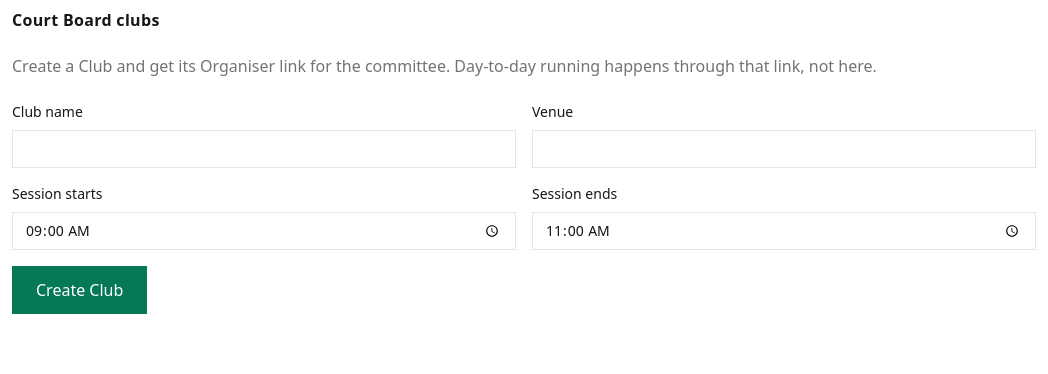
Scenario: CourtBoardClubsPanel › shows the unavailable failure and no link
This screenshot has width=1048, height=374.
Type "Lunchtime Badminton" into the field labelled "Club name".
click(264, 149); type("Lunchtime Badminton")  # box x1=12 y1=130 x2=516 y2=168
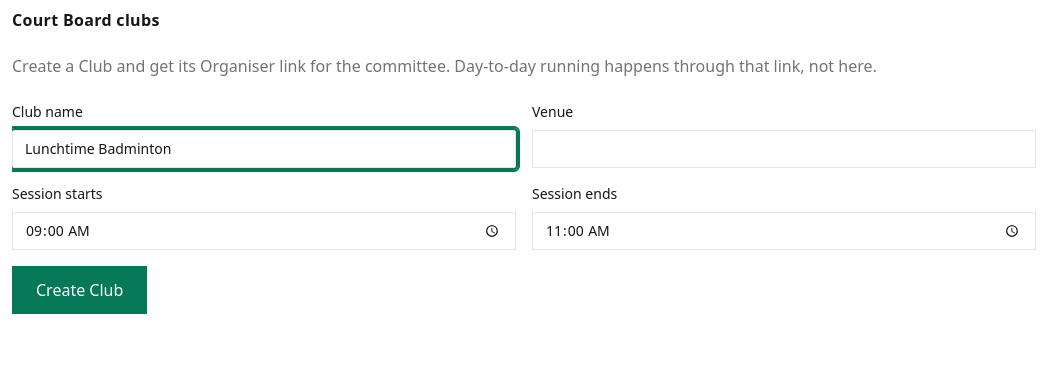
Type "Sports hall" into the field labelled "Venue".
click(784, 149); type("Sports hall")  # box x1=532 y1=130 x2=1036 y2=168
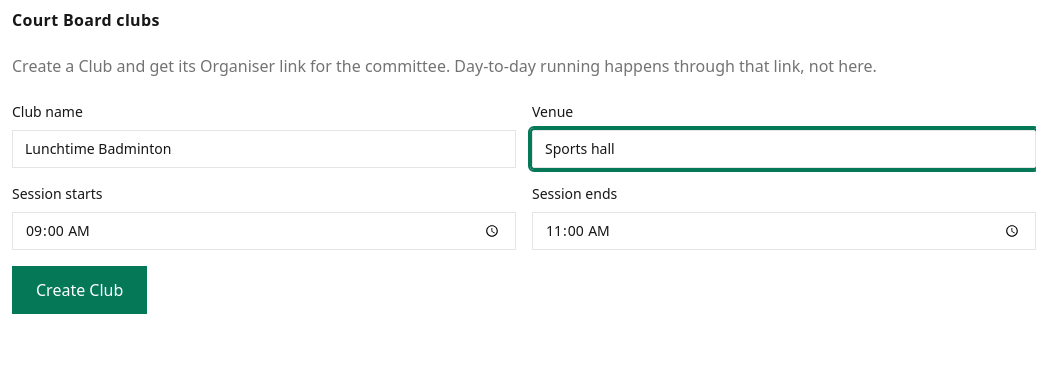
Click the button "Create Club".
click(80, 290)  # box x1=12 y1=266 x2=147 y2=314
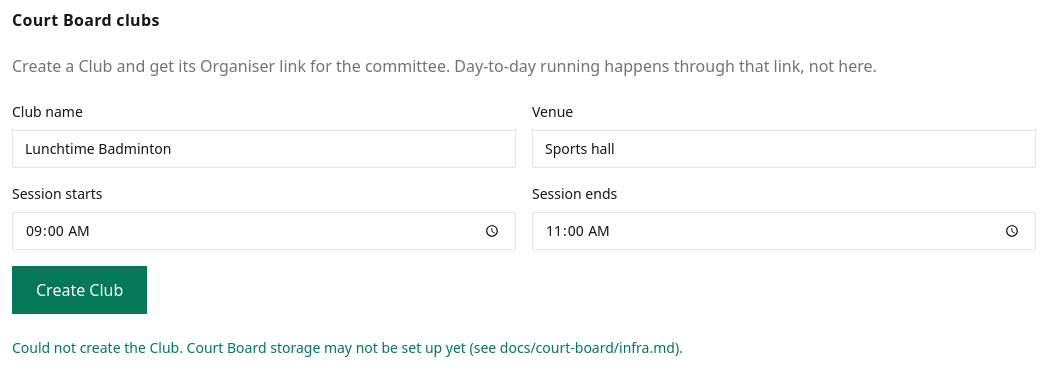
Result: the message shows "Could not create the Club. Court Board storage may not be set up yet (see docs/court-board/infra.md)." at x1=12 y1=338 x2=683 y2=357
